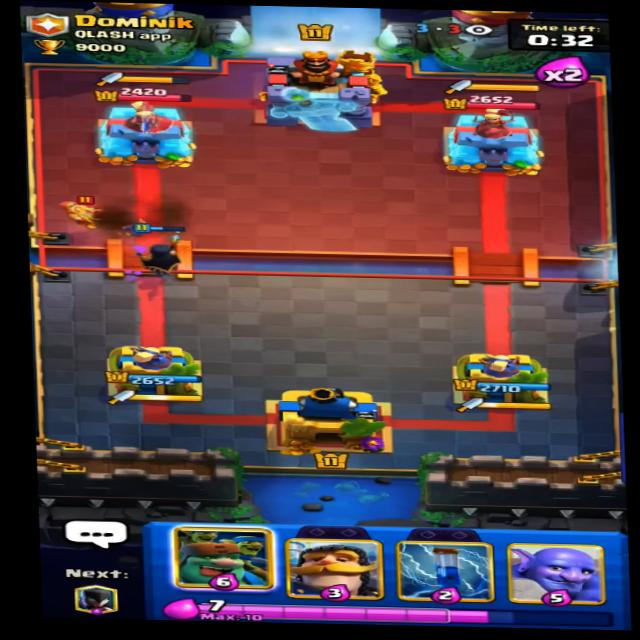Wizard: (59, 191, 121, 231)
